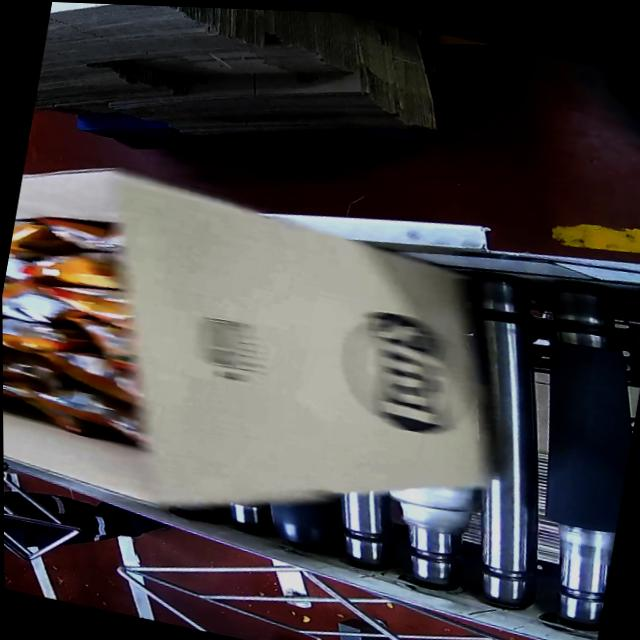FRENCH_CHEESE: (2, 232, 170, 452)
